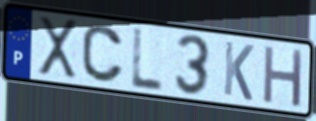3: (173, 33, 214, 97)
C: (80, 23, 126, 85)
H: (261, 43, 305, 110)
K: (222, 39, 256, 104)
L: (129, 26, 166, 94)
X: (36, 14, 79, 81)
